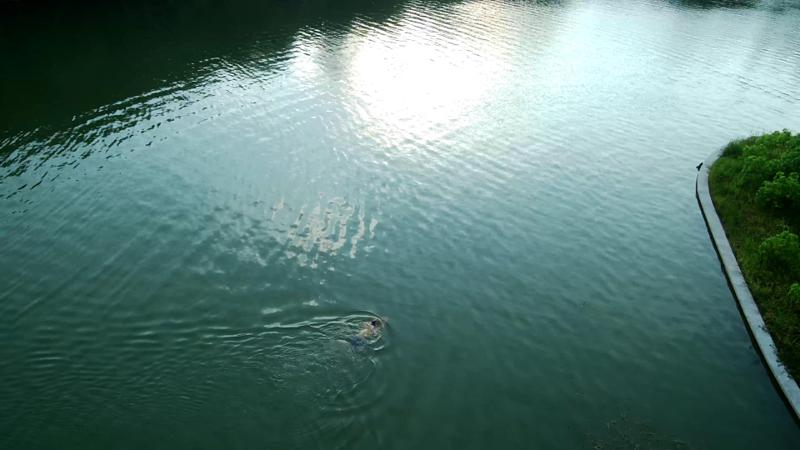swimmers: (349, 317, 387, 347)
